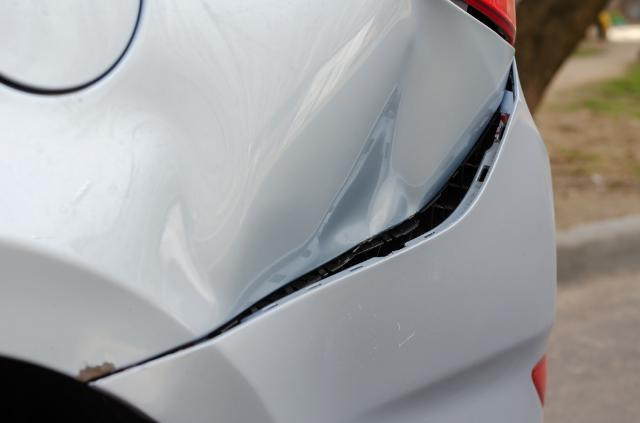dent: (77, 3, 486, 328)
dislocated part: (86, 54, 523, 387)
